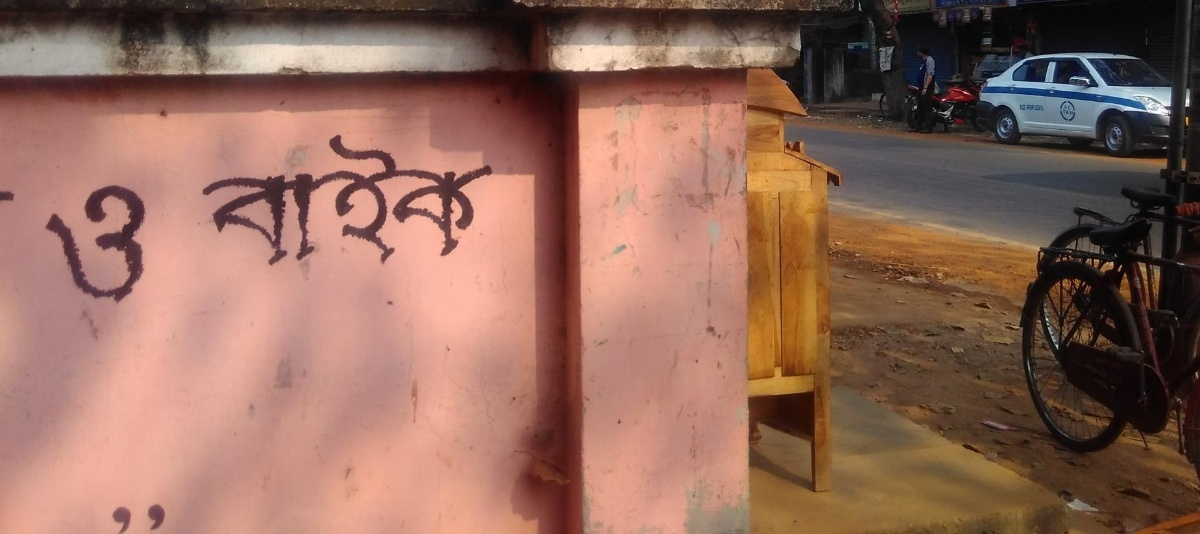text: (209, 119, 224, 270), (225, 119, 240, 270), (241, 119, 256, 270), (257, 119, 272, 270), (273, 119, 288, 270), (289, 119, 304, 270), (305, 119, 320, 270), (321, 119, 336, 270), (337, 119, 352, 270), (353, 119, 368, 270), (369, 119, 384, 270), (385, 119, 400, 270), (401, 119, 416, 270), (417, 119, 432, 270), (433, 119, 448, 270), (449, 119, 464, 270), (465, 119, 480, 270), (196, 119, 208, 270), (49, 183, 64, 303), (65, 183, 80, 303), (81, 183, 96, 303), (97, 183, 112, 303), (113, 183, 128, 303), (129, 183, 144, 303), (481, 119, 490, 270), (113, 490, 128, 533), (129, 490, 144, 533), (145, 490, 160, 533), (98, 490, 112, 533), (43, 183, 48, 303), (161, 490, 171, 533), (5, 181, 16, 215), (145, 183, 148, 303), (1025, 97, 1040, 121), (1041, 97, 1054, 121), (1012, 97, 1024, 121), (1073, 100, 1084, 122), (1067, 100, 1072, 122)
